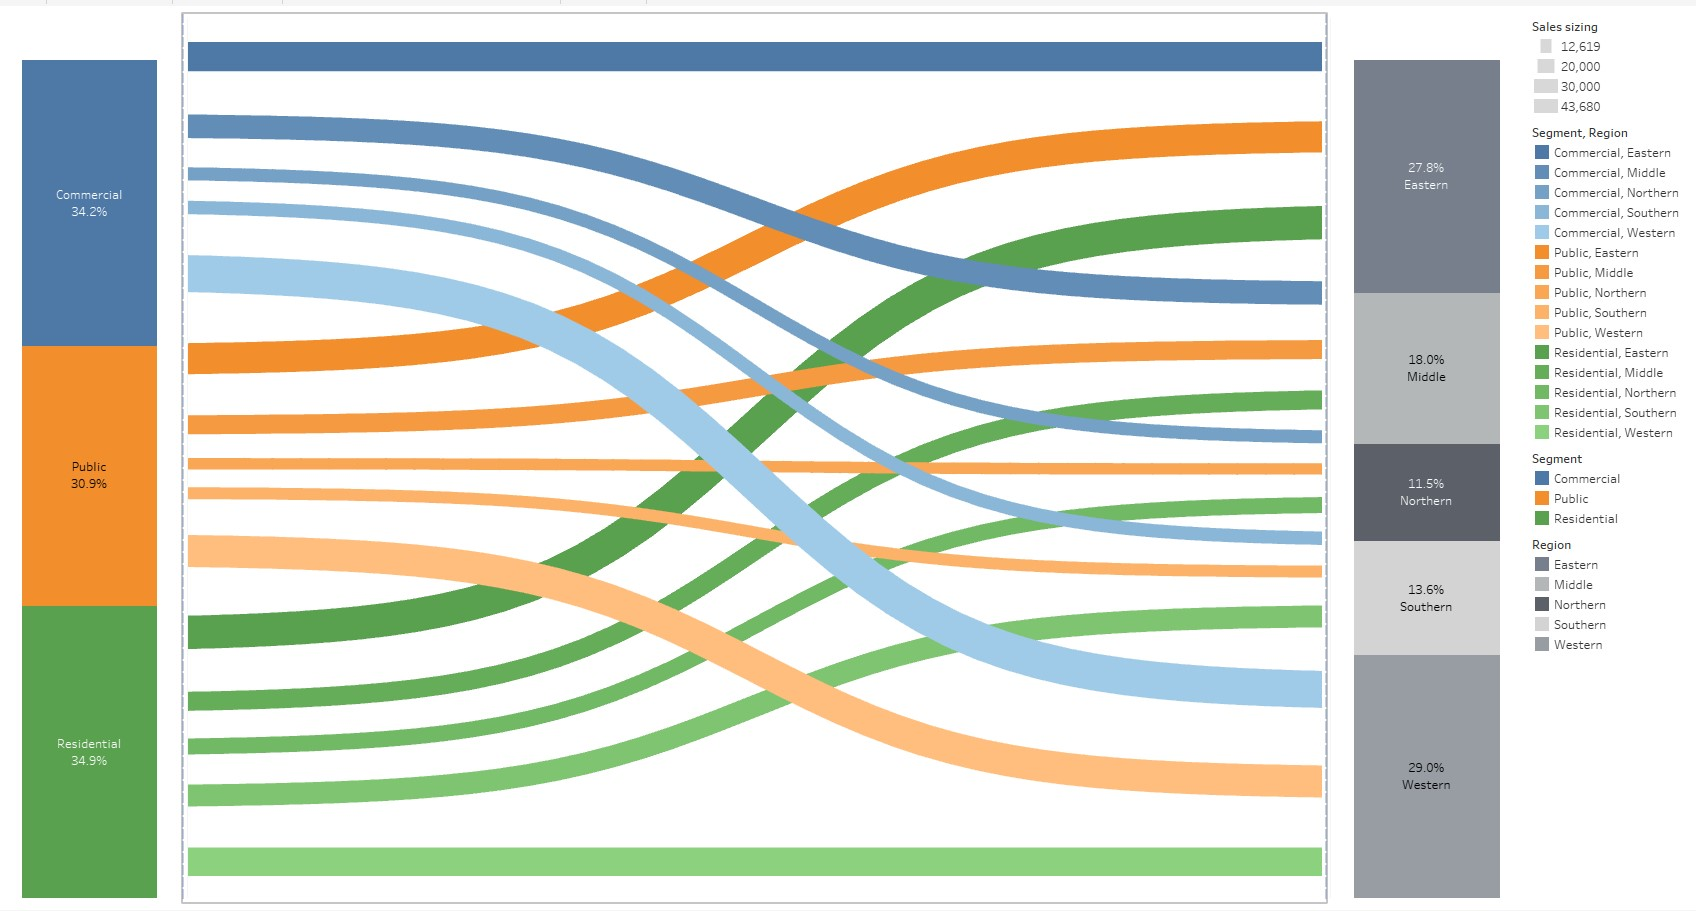

The page's visual inventory and layout, read from the dashboard file:
{"tool":"tableau","page":{"name":"Dashboard 1","canvas":[1000,1000],"units":"permille","ordinal":0},"visuals":[{"type":"worksheet","title":"Segment","mark":"Automatic","rows":["Sales"],"box":[4.7,8.8,110,982.3]},{"type":"worksheet","title":"Sankey","mark":"Line","box":[114.7,8.8,668.8,982.3]},{"type":"worksheet","title":"Region","mark":"Automatic","rows":["Sales"],"box":[783.5,8.8,118.2,982.3]},{"type":"legend","title":"Sankey","param":"[federated.03dvztd0c54vsx18bgpzw0vj26jr].[usr:Calculation_1050746104562642952:qk","box":[901.7,8.8,93.6,117.3]},{"type":"legend","title":"Sankey","param":"[federated.03dvztd0c54vsx18bgpzw0vj26jr].[none:Segment:nk]\n[federated.03dvztd0c5","box":[901.7,126.1,93.6,360.6]},{"type":"legend","title":"Segment","param":"[federated.03dvztd0c54vsx18bgpzw0vj26jr].[none:Segment:nk]","box":[901.7,486.7,93.6,95.1]},{"type":"legend","title":"Region","param":"[federated.03dvztd0c54vsx18bgpzw0vj26jr].[none:Region:nk]","box":[901.7,581.9,93.6,139.4]}]}

Visuals, with their boxes on the dashboard's canvas, which has no fixed pixel size, in thousandths of its width and height (x1, y1, x2, y2). These are canvas units, not pixel positions in the 1696x911 screenshot, which may show the page scaled, cropped or inside an application window:
"Segment" worksheet: bbox(5, 9, 115, 991)
"Sankey" worksheet (Line marks): bbox(115, 9, 784, 991)
"Region" worksheet: bbox(784, 9, 902, 991)
"Sankey" legend: bbox(902, 9, 995, 126)
"Sankey" legend: bbox(902, 126, 995, 487)
"Segment" legend: bbox(902, 487, 995, 582)
"Region" legend: bbox(902, 582, 995, 721)
